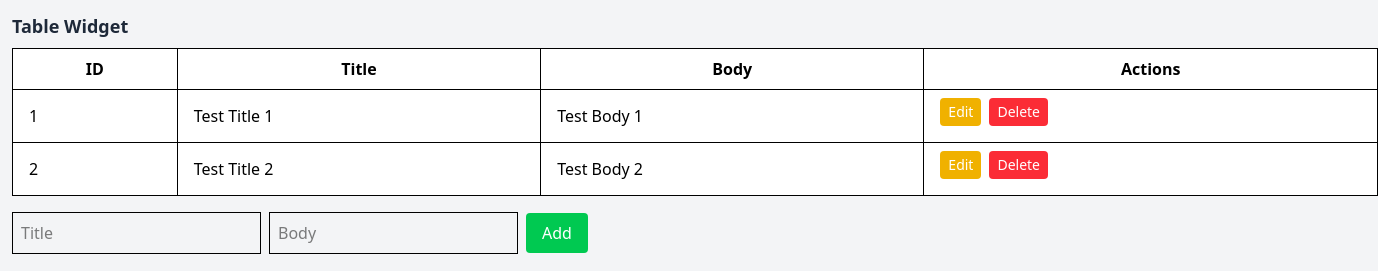
Test: TableWidget › can delete an item
This screenshot has width=1378, height=271.
Click the button "Delete" in the row of "Test Title 1".
click(1019, 112)  # box [989, 98, 1048, 126]
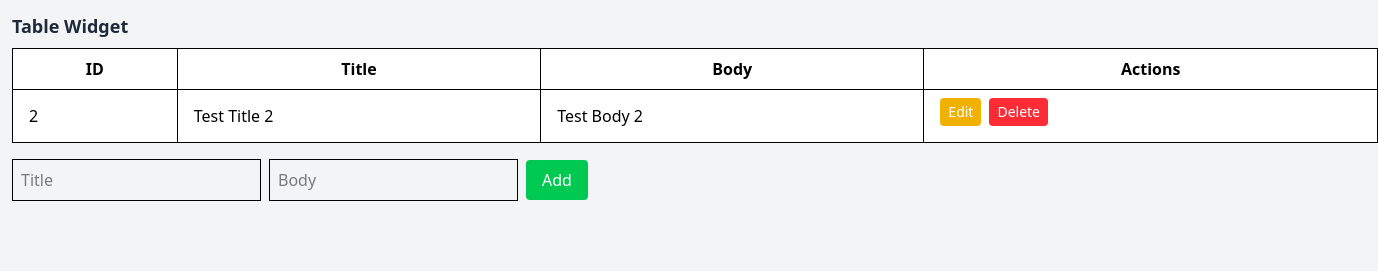
Expected: the text "Test Title 1" is gone
